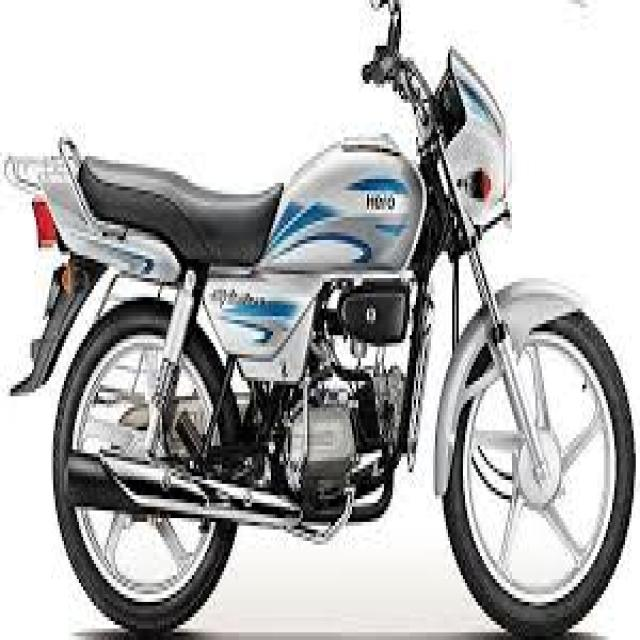bike: (2, 1, 636, 635)
